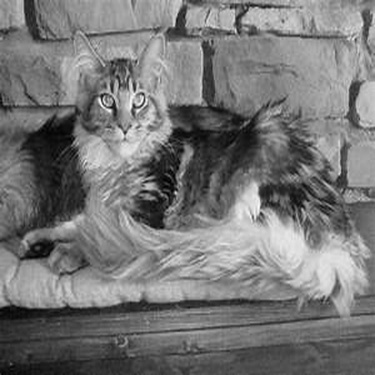cat: (17, 18, 369, 304)
